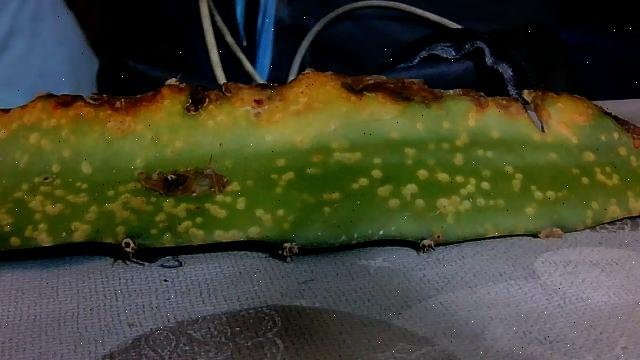stemcanker: (1, 194, 66, 248), (265, 151, 301, 224), (101, 189, 160, 220), (496, 160, 531, 196), (233, 193, 273, 223), (207, 223, 264, 244), (15, 172, 68, 194), (176, 217, 211, 245), (402, 180, 430, 214), (375, 184, 405, 213), (329, 148, 367, 167), (204, 200, 233, 224), (395, 143, 425, 165), (9, 148, 35, 173), (452, 128, 477, 152), (165, 199, 193, 220), (407, 164, 435, 185), (349, 171, 374, 194), (540, 186, 565, 205), (76, 159, 98, 180), (290, 129, 314, 148), (152, 228, 174, 248), (580, 148, 602, 166), (67, 188, 91, 204), (450, 149, 469, 169), (521, 201, 540, 221), (432, 170, 455, 186), (109, 220, 130, 237), (367, 166, 388, 183), (480, 146, 497, 165), (471, 195, 492, 210), (449, 169, 468, 185), (81, 205, 98, 222), (575, 174, 594, 189), (47, 162, 64, 176), (479, 180, 494, 194)
